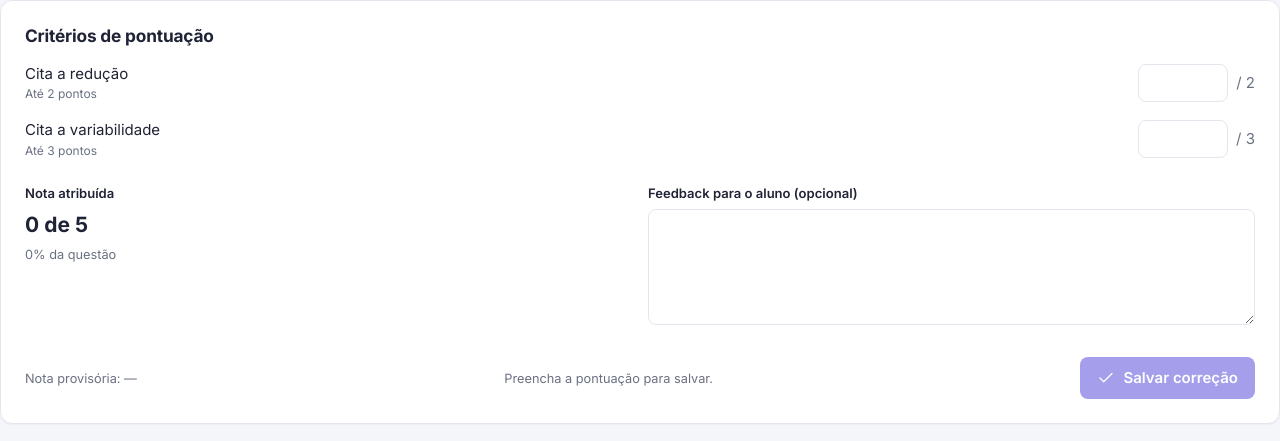
it: PainelCorrecao › critérios começam vazios e o total só conta o que foi preenchido
Expected: the text "0 de 5" is shown, left=25, top=212, right=88, bottom=237
Type "2" into the number field named "Pontos para: Cita a redução". click: (1183, 83)
box: left=1138, top=64, right=1228, bottom=102
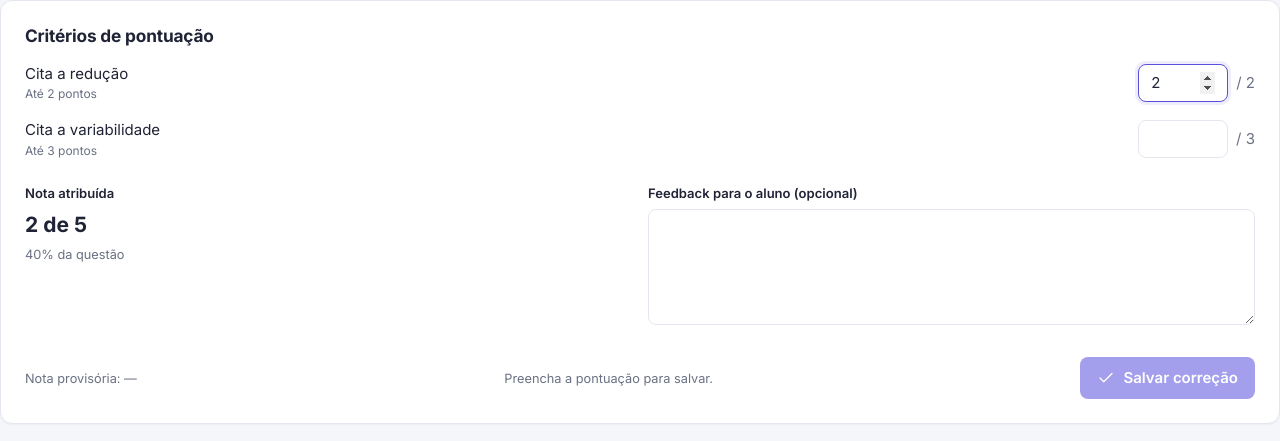
Expected: the button "Salvar correção" is disabled, left=1080, top=357, right=1255, bottom=399
Type "1" into the number field named "Pontos para: Cita a variabilidade". click: (1183, 139)
box: left=1138, top=120, right=1228, bottom=158
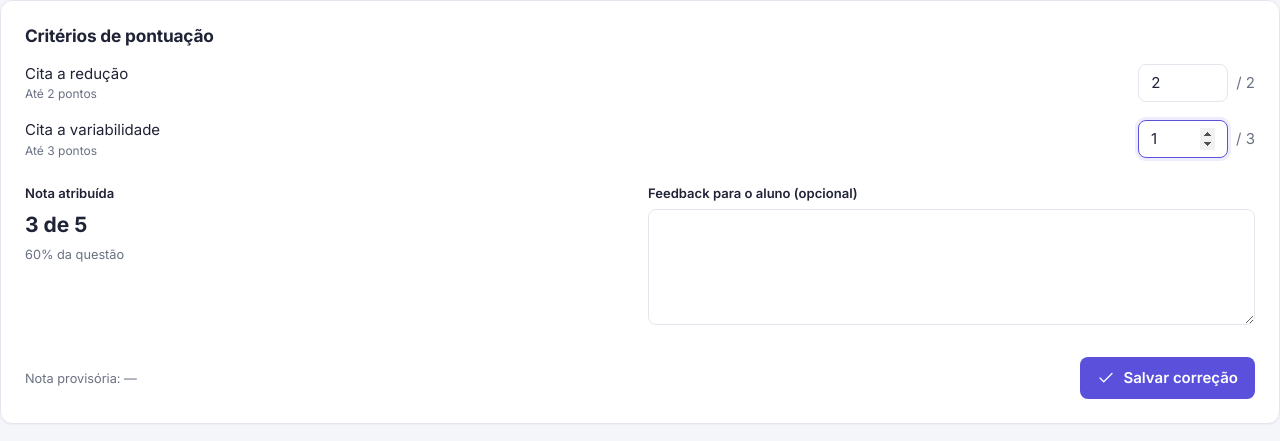
Expected: the button "Salvar correção" is enabled, left=1080, top=357, right=1255, bottom=399
Expected: the text "3 de 5" is shown, left=25, top=212, right=87, bottom=237
